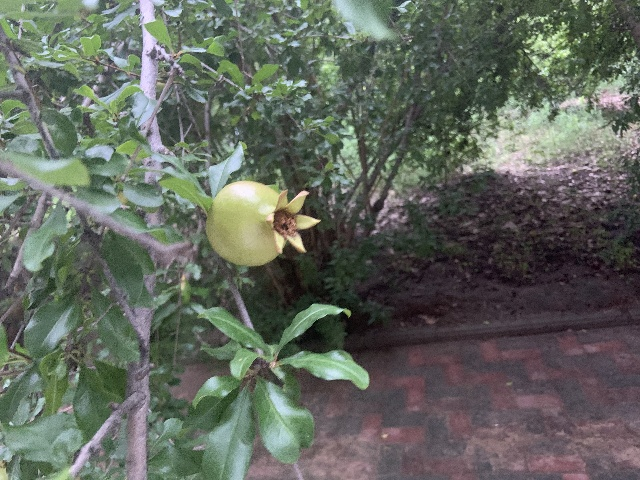mid-growth: (206, 180, 321, 265)
